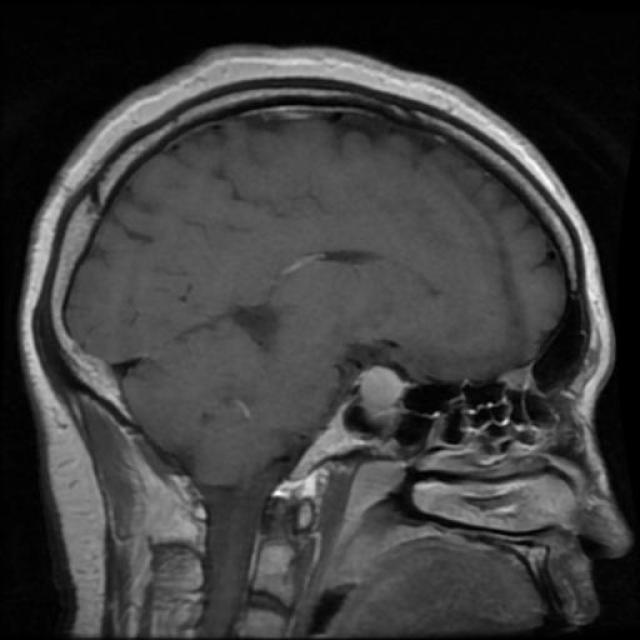brain_tumor: (360, 366, 411, 439)
